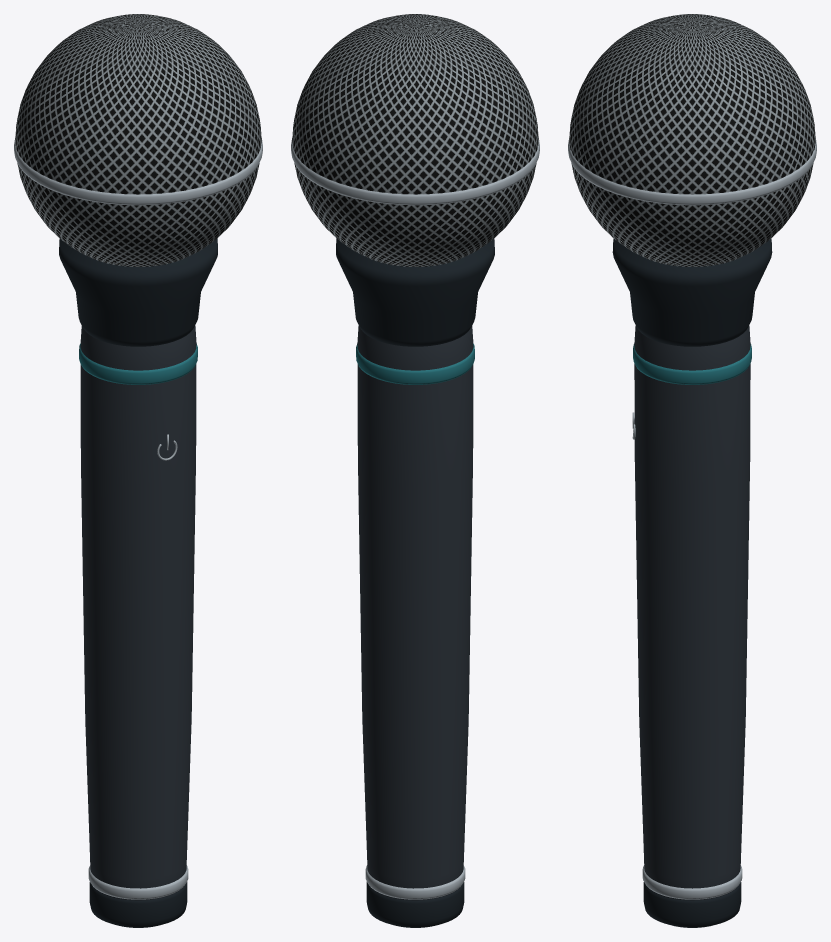
The model's file is microphone.glb.
3 renders of one model, left to right at view 1: azimuth 30°, elevation 25°; view 2: azimuth 150°, elevation 25°; view 3: azimuth 270°, elevation 25°, orthographic.
Parts seen in each view (by area): view 1: MIC_Body, MIC_Grille, MIC_RubberParts, MIC_Trim, MIC_Indicator; view 2: MIC_Body, MIC_Grille, MIC_RubberParts, MIC_Trim, MIC_Indicator; view 3: MIC_Body, MIC_Grille, MIC_RubberParts, MIC_Trim, MIC_Indicator.
Part boxes in pixels (left/top/right/bottom): MIC_Body: left=80, top=325, right=196, bottom=900; MIC_Grille: left=15, top=14, right=261, bottom=266; MIC_RubberParts: left=59, top=238, right=217, bottom=927; MIC_Trim: left=14, top=138, right=262, bottom=899; MIC_Indicator: left=79, top=343, right=197, bottom=384; MIC_Body: left=357, top=325, right=473, bottom=900; MIC_Grille: left=292, top=14, right=538, bottom=266; MIC_RubberParts: left=336, top=238, right=494, bottom=927; MIC_Trim: left=291, top=138, right=539, bottom=899; MIC_Indicator: left=356, top=343, right=474, bottom=384; MIC_Body: left=634, top=325, right=750, bottom=900; MIC_Grille: left=569, top=14, right=815, bottom=266; MIC_RubberParts: left=612, top=238, right=772, bottom=927; MIC_Trim: left=568, top=138, right=816, bottom=899; MIC_Indicator: left=633, top=344, right=751, bottom=384.
Size of the model in its own units: 0.0565 by 0.222 by 0.0565.
5 materials, 1 textured.
